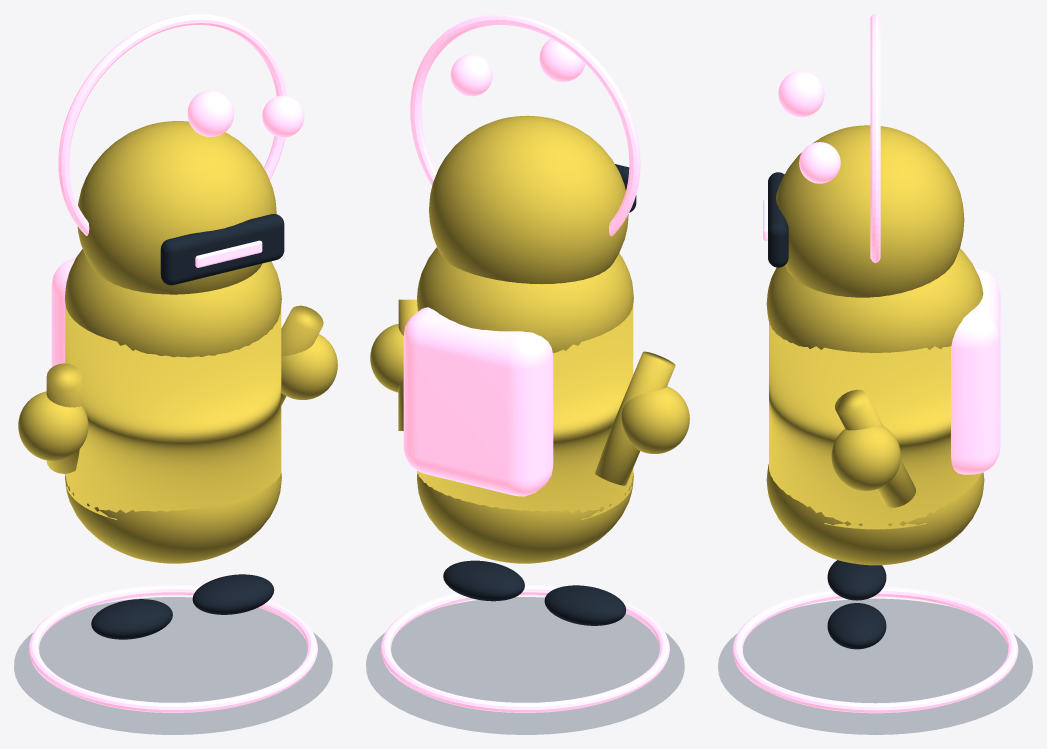
The model's file is vega.glb.
3 renders of one model, left to right at view 1: azimuth 30°, elevation 25°; view 2: azimuth 150°, elevation 25°; view 3: azimuth 270°, elevation 25°, orthographic.
Parts seen in each view (by area): view 1: vega_soft_body, vega_soft_contact_shadow, vega_head, vega_upper_round, vega_lower_round, vega_ground_shadow_ring, vega_blocked_alert_ring, vega_visor, vega_left_hand, vega_right_hand, vega_left_foot, vega_right_foot (+6 smaller); view 2: vega_soft_contact_shadow, vega_head, vega_release_pack, vega_soft_body, vega_upper_round, vega_lower_round, vega_blocked_alert_ring, vega_ground_shadow_ring, vega_left_hand, vega_left_arm, vega_left_foot, vega_right_foot (+4 smaller); view 3: vega_soft_contact_shadow, vega_soft_body, vega_head, vega_upper_round, vega_release_pack, vega_lower_round, vega_ground_shadow_ring, vega_right_hand, vega_blocked_alert_ring, vega_right_arm, vega_right_foot, vega_left_foot (+3 smaller).
Boxes of the visible parts, box(x1,y1,x2,y2) form: vega_soft_body: box(65, 304, 281, 519); vega_soft_contact_shadow: box(14, 597, 332, 734); vega_head: box(77, 121, 276, 294); vega_upper_round: box(65, 249, 281, 357); vega_lower_round: box(65, 473, 281, 563); vega_ground_shadow_ring: box(28, 585, 317, 712); vega_blocked_alert_ring: box(58, 14, 287, 235); vega_visor: box(160, 214, 284, 285); vega_left_hand: box(18, 391, 88, 460); vega_right_hand: box(281, 334, 337, 399); vega_left_foot: box(91, 599, 172, 639); vega_right_foot: box(192, 574, 274, 614); vega_soft_contact_shadow: box(366, 597, 684, 734); vega_head: box(429, 115, 628, 284); vega_release_pack: box(403, 307, 553, 496); vega_soft_body: box(417, 304, 633, 519); vega_upper_round: box(417, 247, 633, 352); vega_lower_round: box(417, 471, 633, 563); vega_blocked_alert_ring: box(410, 14, 640, 236); vega_ground_shadow_ring: box(380, 585, 669, 712); vega_left_hand: box(621, 386, 689, 453); vega_left_arm: box(595, 351, 675, 485); vega_left_foot: box(544, 585, 626, 625); vega_right_foot: box(443, 560, 524, 601); vega_soft_contact_shadow: box(718, 599, 1032, 734); vega_soft_body: box(769, 322, 980, 529); vega_head: box(776, 125, 964, 297); vega_upper_round: box(766, 248, 983, 352); vega_release_pack: box(951, 267, 1000, 474); vega_lower_round: box(766, 464, 984, 565); vega_ground_shadow_ring: box(732, 587, 1018, 713); vega_right_hand: box(831, 425, 900, 490); vega_blocked_alert_ring: box(870, 14, 880, 263); vega_right_arm: box(834, 389, 915, 507); vega_right_foot: box(827, 603, 886, 649); vega_left_foot: box(827, 560, 886, 600).
Bounding box in the file's own units: 0.7644 × 1.53 × 0.68.
